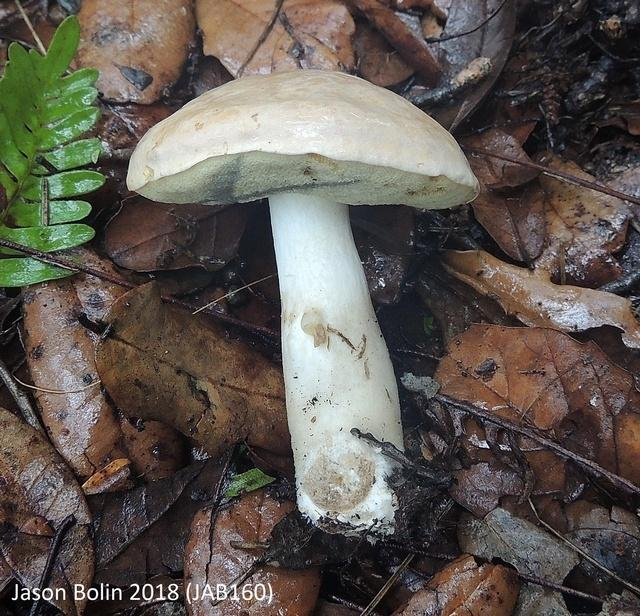edible_mushroom: (124, 67, 481, 537)
